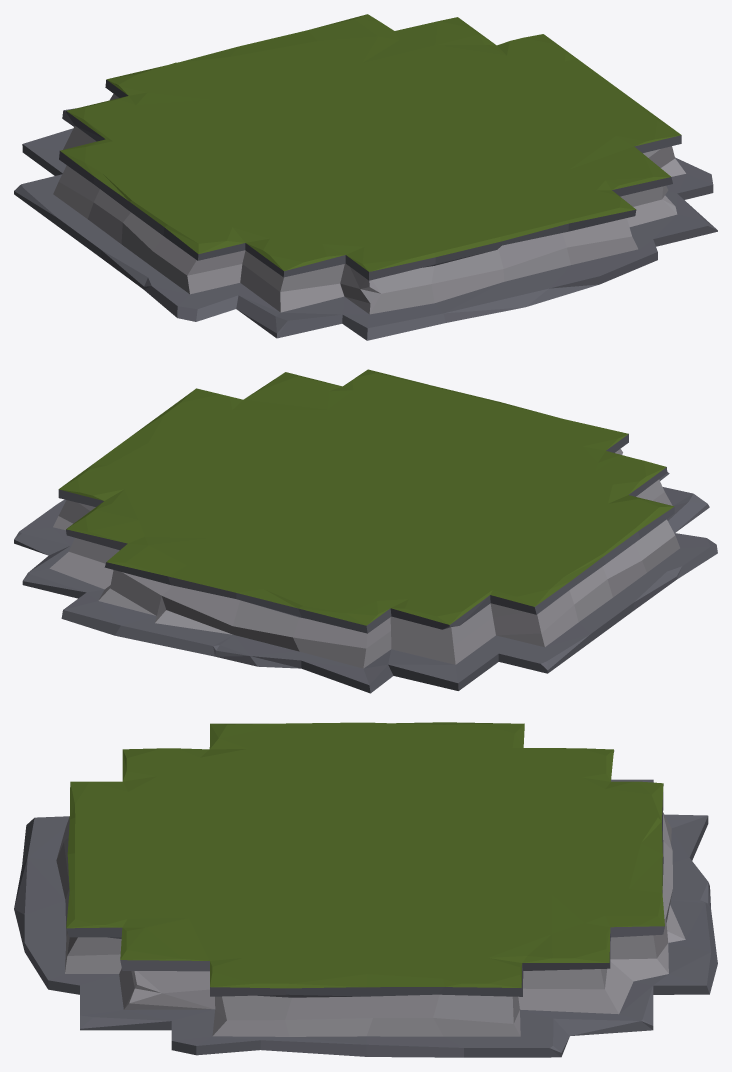
The model's file is Temple  Terrain_2.fbx.
The picture shows the model from 3 angles, top to bottom: view 1: azimuth 30°, elevation 25°; view 2: azimuth 150°, elevation 25°; view 3: azimuth 270°, elevation 25°; orthographic projection. The views are drawn at different scales.
Parts seen in each view (by area): view 1: Temple Terrain_2; view 2: Temple Terrain_2; view 3: Temple Terrain_2.
Boxes of the visible parts, x1,y1,x2,y2 form: Temple Terrain_2: (14, 14, 717, 340); Temple Terrain_2: (14, 369, 717, 693); Temple Terrain_2: (14, 722, 717, 1057).
Size of the model in its own units: 23.3 by 2.08 by 23.23.
